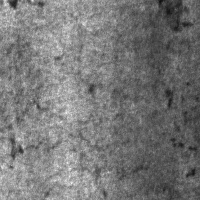crazing: (76, 113, 147, 197), (1, 97, 65, 158)
